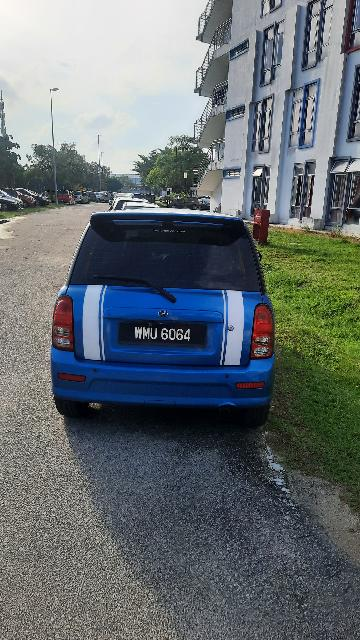License_Plate: (115, 317, 207, 353)
car: (45, 207, 282, 429)
